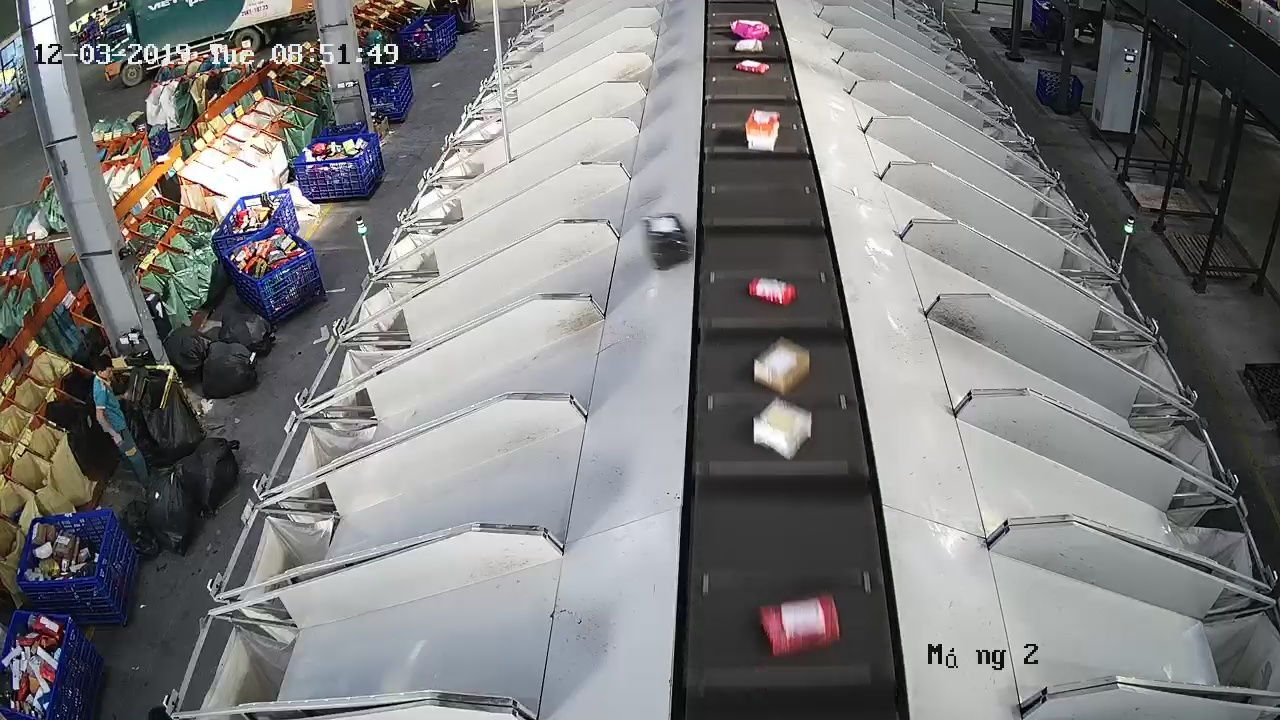parcel: (758, 590, 842, 659), (751, 395, 813, 461), (752, 334, 812, 395), (641, 211, 690, 271), (743, 107, 782, 154), (747, 275, 798, 307)
